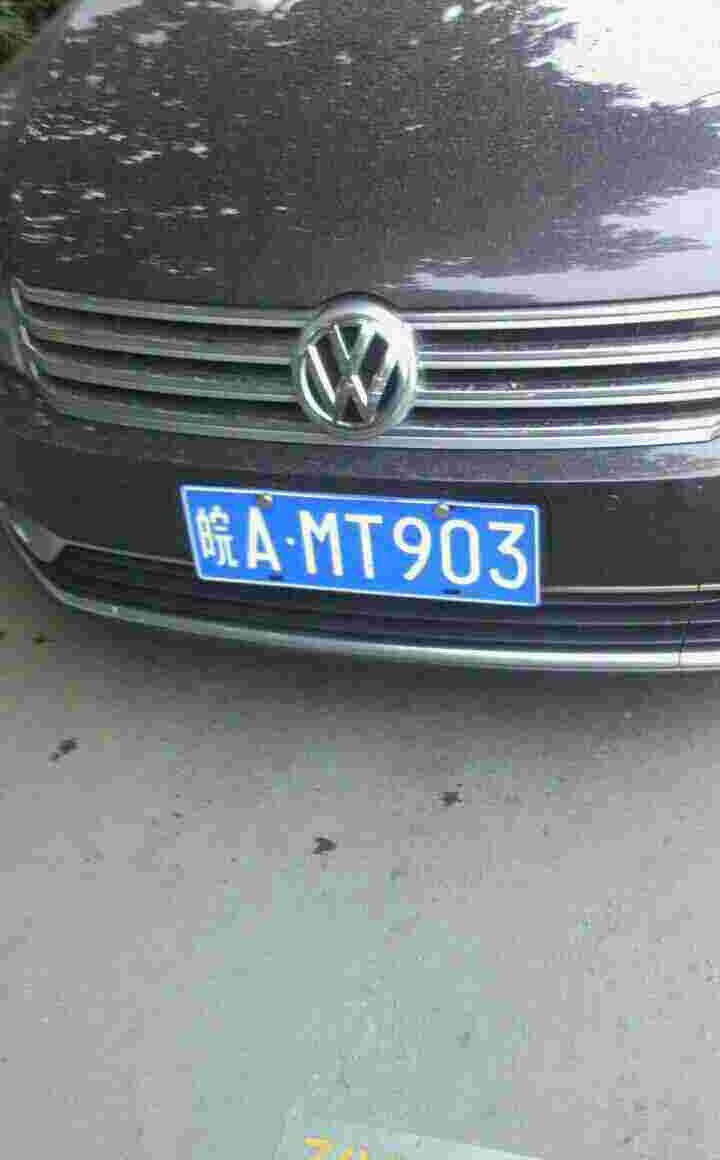license_plate: (199, 487, 545, 592)
